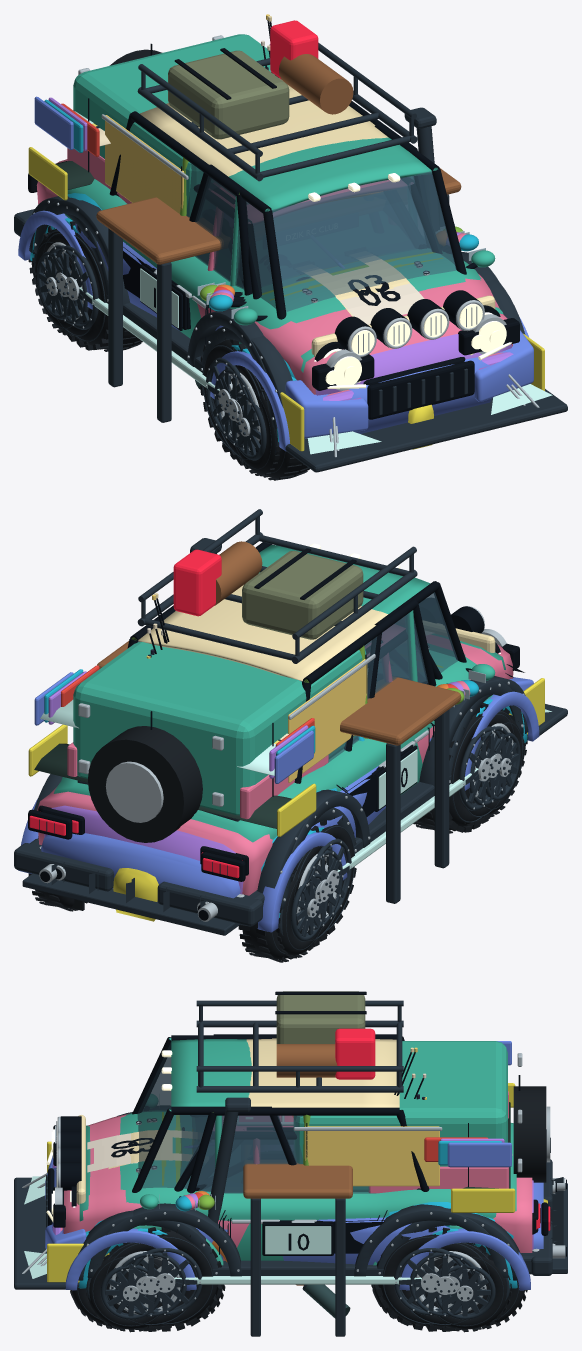
Rendered from garage.glb.
The picture shows the model from 3 angles, top to bottom: view 1: azimuth 30°, elevation 25°; view 2: azimuth 150°, elevation 25°; view 3: azimuth 270°, elevation 25°; orthographic projection. The views are drawn at different scales.
Parts seen in each view (by area): view 1: van_body, jeep_body, prototype_body, pickup_body, table_body, drift_body, rally_body, formula_body, jeep_wheel_geometry_RL, prototype_wheel_geometry_FL, jeep_wheel_geometry_FL, gt_body (+4 smaller); view 2: jeep_body, van_body, prototype_body, pickup_body, table_body, formula_body, drift_body, jeep_wheel_geometry_FL, prototype_wheel_geometry_RL, jeep_wheel_geometry_RL, rally_body, prototype_wheel_geometry_FL (+4 smaller); view 3: van_body, jeep_body, prototype_body, pickup_body, table_body, jeep_wheel_geometry_FR, jeep_wheel_geometry_RR, prototype_wheel_geometry_RR, prototype_wheel_geometry_FR, formula_body, buggy_wheel_geometry_RR, buggy_wheel_geometry_FR (+8 smaller).
Boxes of the visible parts, <box> form: van_body: <box>65,14,503,372</box>; jeep_body: <box>34,16,500,428</box>; prototype_body: <box>14,96,567,472</box>; pickup_body: <box>29,40,525,407</box>; table_body: <box>96,168,461,422</box>; drift_body: <box>48,44,525,450</box>; rally_body: <box>61,45,484,357</box>; formula_body: <box>28,147,544,451</box>; jeep_wheel_geometry_RL: <box>55,221,108,350</box>; prototype_wheel_geometry_FL: <box>229,378,280,476</box>; jeep_wheel_geometry_FL: <box>200,336,255,462</box>; gt_body: <box>30,99,522,450</box>; jeep_body: <box>88,509,523,909</box>; van_body: <box>53,542,505,892</box>; prototype_body: <box>14,664,567,935</box>; pickup_body: <box>34,624,528,904</box>; table_body: <box>97,641,461,903</box>; formula_body: <box>28,678,544,921</box>; drift_body: <box>34,643,519,922</box>; jeep_wheel_geometry_FL: <box>449,703,502,832</box>; prototype_wheel_geometry_RL: <box>276,860,328,958</box>; jeep_wheel_geometry_RL: <box>306,816,356,941</box>; rally_body: <box>61,598,484,959</box>; prototype_wheel_geometry_FL: <box>478,714,524,817</box>; van_body: <box>73,1035,522,1265</box>; jeep_body: <box>70,991,550,1278</box>; prototype_body: <box>14,1041,567,1290</box>; pickup_body: <box>53,1073,555,1280</box>; table_body: <box>243,1163,352,1336</box>; jeep_wheel_geometry_FR: <box>123,1227,222,1331</box>; jeep_wheel_geometry_RR: <box>374,1227,475,1331</box>; prototype_wheel_geometry_RR: <box>425,1249,511,1332</box>; prototype_wheel_geometry_FR: <box>86,1250,171,1332</box>; formula_body: <box>47,1083,547,1282</box>; buggy_wheel_geometry_RR: <box>400,1233,492,1331</box>; buggy_wheel_geometry_FR: <box>103,1233,195,1331</box>.
Size of the model in its own units: 1.34 by 1.38 by 2.42.
